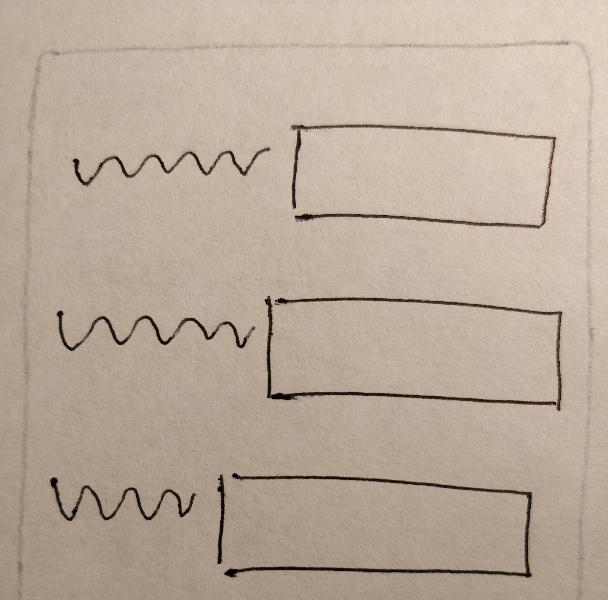text: (45, 297, 259, 364), (60, 129, 273, 184), (43, 468, 204, 536)
text_input: (213, 462, 542, 586), (264, 285, 569, 418), (283, 112, 566, 236)
